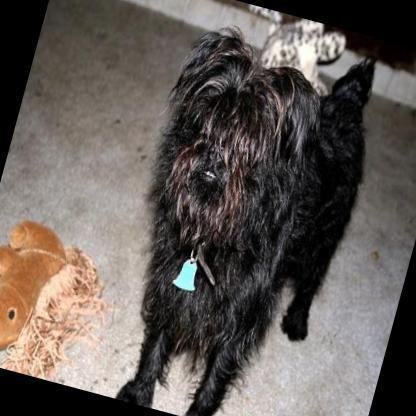affenpinscher: (86, 0, 399, 416)
